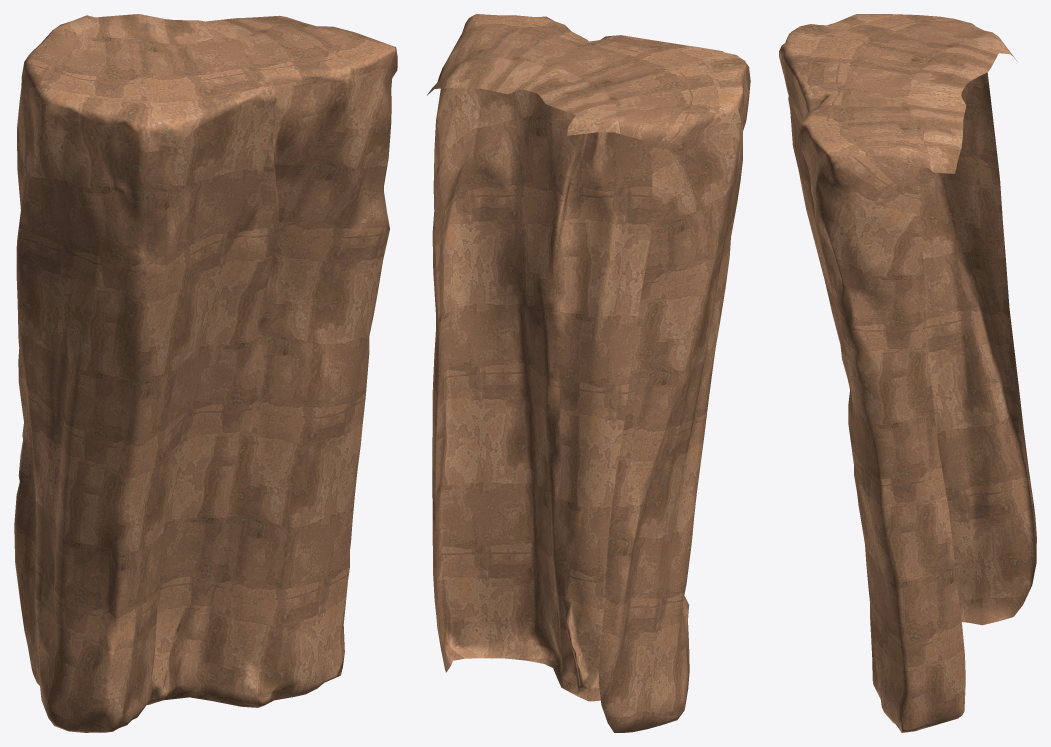
File: Ob_RockCliff17.fbx
The picture shows the model from 3 angles, left to right: view 1: azimuth 30°, elevation 25°; view 2: azimuth 150°, elevation 25°; view 3: azimuth 270°, elevation 25°; orthographic projection. The views are drawn at different scales.
Parts seen in each view (by area): view 1: Ob_RockCliff17; view 2: Ob_RockCliff17; view 3: Ob_RockCliff17.
Part boxes in pixels (x1,y1,x2,y2): Ob_RockCliff17: (14, 14, 397, 732); Ob_RockCliff17: (427, 14, 750, 732); Ob_RockCliff17: (779, 14, 1036, 732).
Bounding box in the file's own units: 18356 × 35813 × 13856.
